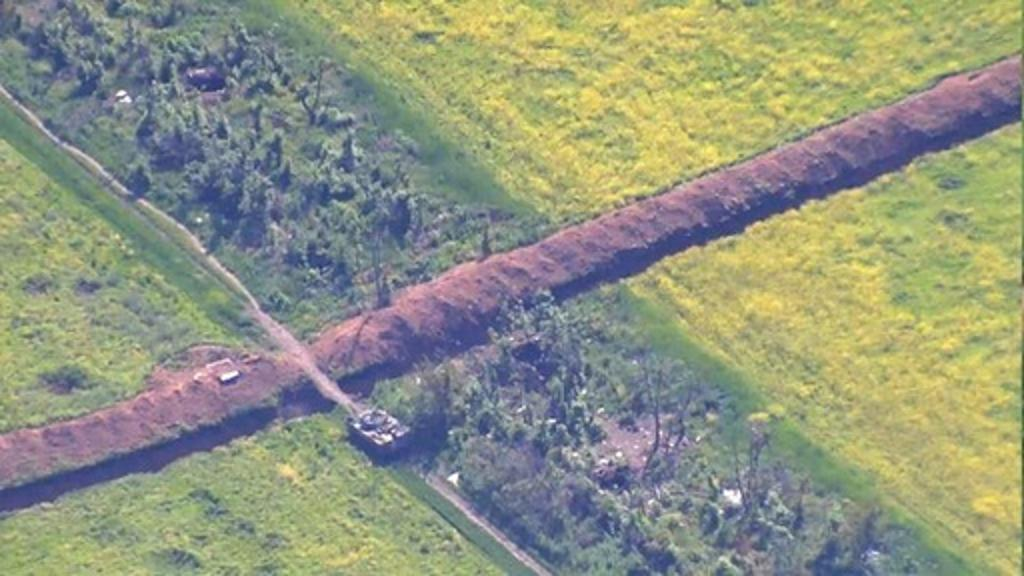APC-IFV: (338, 402, 414, 460)
